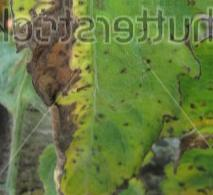Tomato leaf bacterial spot: (5, 0, 213, 195), (135, 13, 213, 195)
